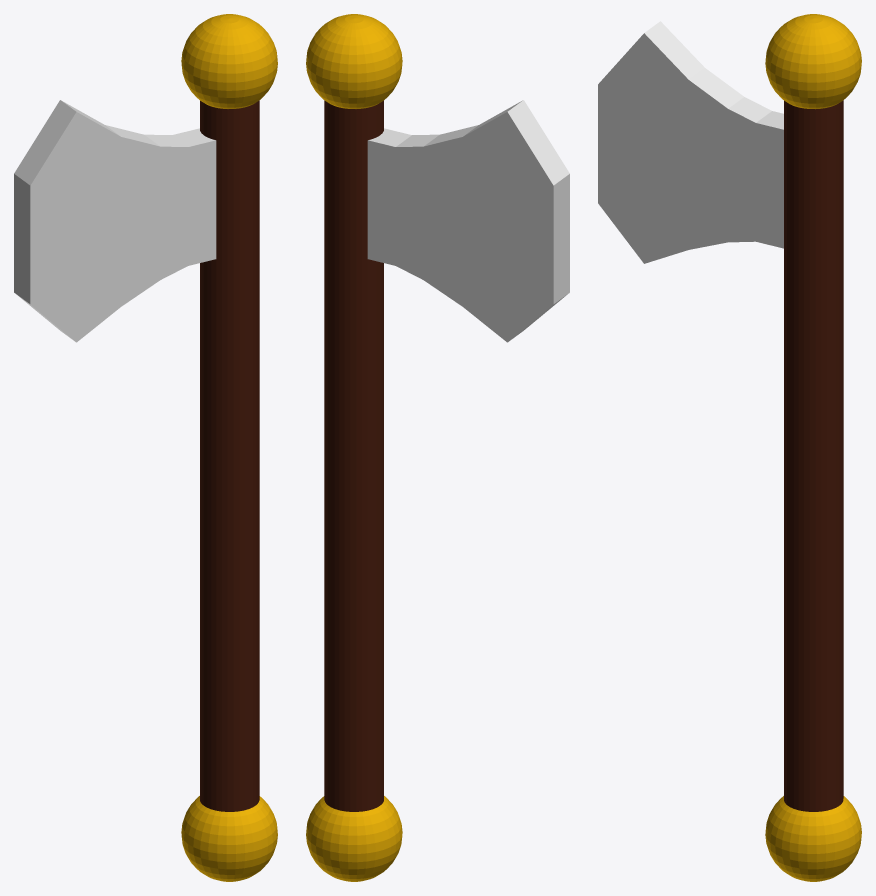
File: axe_01.fbx
The picture shows the model from 3 angles, left to right: view 1: azimuth 30°, elevation 25°; view 2: azimuth 150°, elevation 25°; view 3: azimuth 330°, elevation 25°; orthographic projection.
Parts seen in each view (by area): view 1: Cylinder, Cube, Sphere.001, Sphere; view 2: Cylinder, Cube, Sphere.001, Sphere; view 3: Cylinder, Cube, Sphere.001, Sphere.
Boxes of the visible parts, box(x1,y1,x2,y2) form: Cylinder: box(200, 100, 259, 811); Cube: box(14, 100, 216, 342); Sphere.001: box(181, 14, 277, 108); Sphere: box(181, 796, 277, 881); Cylinder: box(324, 100, 383, 811); Cube: box(367, 100, 569, 342); Sphere.001: box(306, 14, 402, 108); Sphere: box(306, 796, 402, 881); Cylinder: box(784, 100, 843, 811); Cube: box(598, 21, 783, 263); Sphere.001: box(765, 14, 861, 109); Sphere: box(765, 796, 861, 881).
Size of the model in its own units: 0.5781 by 1.9 by 0.1943.
